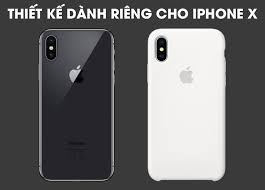iphone: (146, 27, 227, 182), (38, 27, 119, 182)
